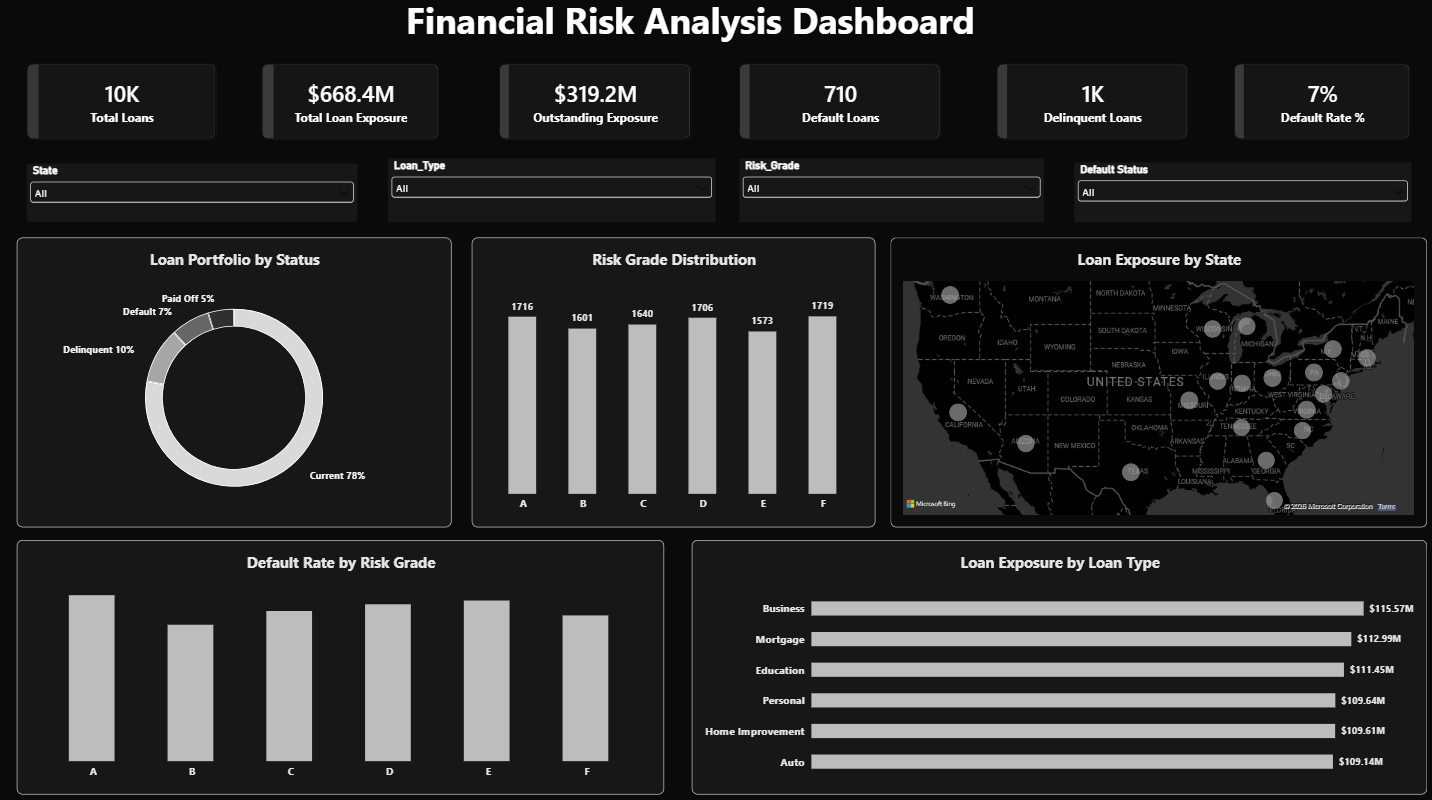

The dashboard page shown, as its layout file describes it:
{"tool":"powerbi","page":{"name":"Loan Portfolio Overview","canvas":[1920,1080],"ordinal":0},"visuals":[{"type":"cardVisual","fields":{"Data":["financial_risk.Total Loans"]},"box":[38,92.3,253.4,101.3],"z":0},{"type":"textbox","box":[443.4,0,919.3,68.8],"z":1000},{"type":"cardVisual","fields":{"Data":["financial_risk.Total Loan Exposure"]},"box":[352.9,92.3,237.1,101.3],"z":2000},{"type":"cardVisual","fields":{"Data":["financial_risk.Outstanding Exposure"]},"box":[669.6,92.3,257,101.3],"z":3000},{"type":"cardVisual","fields":{"Data":["financial_risk.Default Loans"]},"box":[989.9,92.3,269.6,101.3],"z":4000},{"type":"cardVisual","fields":{"Data":["financial_risk.Delinquent Loans"]},"box":[1333.7,92.3,255.2,101.3],"z":5000},{"type":"cardVisual","fields":{"Data":["financial_risk.Default Rate %"]},"box":[1652.2,92.3,235.3,101.3],"z":6000},{"type":"donutChart","title":"Loan Portfolio by Status","fields":{"Category":["financial_risk.Loan_Status"],"Y":["CountNonNull(financial_risk.Loan_ID)"]},"box":[25.3,323.9,580.9,387.3],"z":7000},{"type":"clusteredColumnChart","title":"Risk Grade Distribution","fields":{"Category":["financial_risk.Risk_Grade"],"Y":["financial_risk.Total Loans"]},"box":[633.4,323.9,539.3,387.3],"z":8000},{"type":"barChart","title":"Loan Exposure by Loan Type","fields":{"Category":["financial_risk.Loan_Type"],"Y":["financial_risk.Total Loan Exposure"]},"box":[926.5,727.5,982.6,340.2],"z":9000},{"type":"clusteredColumnChart","title":"Default Rate by Risk Grade","fields":{"Category":["financial_risk.Risk_Grade"],"Y":["financial_risk.Default Rate %"]},"box":[25.3,727.5,865,340.2],"z":10000},{"type":"map","title":"Loan Exposure by State","fields":{"Category":["financial_risk.State"],"Size":["financial_risk.Total Loan Exposure"]},"box":[1192.6,323.9,716.6,387.3],"z":11000},{"type":"slicer","fields":{"Values":["financial_risk.State"]},"box":[38,226.2,441.6,77.8],"z":12000},{"type":"slicer","fields":{"Values":["financial_risk.Loan_Type"]},"box":[521.2,219,437.9,85.1],"z":13000},{"type":"slicer","fields":{"Values":["financial_risk.Risk_Grade"]},"box":[989.9,219,407.2,85.1],"z":14000},{"type":"slicer","fields":{"Values":["financial_risk.Default Status"]},"box":[1436.9,224.4,450.6,79.6],"z":15000}]}

Visuals, with their boxes in screenshot pixels (x1, y1, x2, y2), scaled from the page's 1920x1080 canvas onto the 1432x800 screenshot:
cardVisual - financial_risk.Total Loans: l=28, t=68, r=217, b=143
textbox: l=331, t=0, r=1016, b=51
cardVisual - financial_risk.Total Loan Exposure: l=263, t=68, r=440, b=143
cardVisual - financial_risk.Outstanding Exposure: l=499, t=68, r=691, b=143
cardVisual - financial_risk.Default Loans: l=738, t=68, r=939, b=143
cardVisual - financial_risk.Delinquent Loans: l=995, t=68, r=1185, b=143
cardVisual - financial_risk.Default Rate %: l=1232, t=68, r=1408, b=143
"Loan Portfolio by Status" donutChart: l=19, t=240, r=452, b=527
"Risk Grade Distribution" clusteredColumnChart: l=472, t=240, r=875, b=527
"Loan Exposure by Loan Type" barChart: l=691, t=539, r=1424, b=791
"Default Rate by Risk Grade" clusteredColumnChart: l=19, t=539, r=664, b=791
"Loan Exposure by State" map: l=889, t=240, r=1424, b=527
slicer - financial_risk.State: l=28, t=168, r=358, b=225
slicer - financial_risk.Loan_Type: l=389, t=162, r=715, b=225
slicer - financial_risk.Risk_Grade: l=738, t=162, r=1042, b=225
slicer - financial_risk.Default Status: l=1072, t=166, r=1408, b=225
